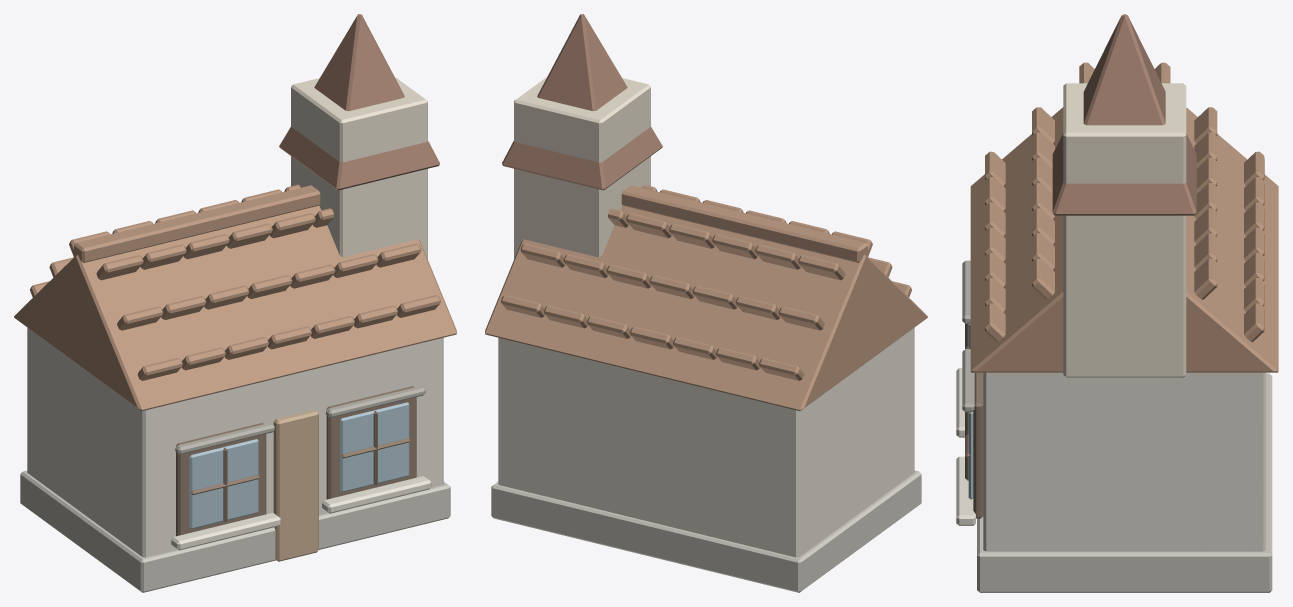
Rendered from church_b.glb.
The picture shows the model from 3 angles, left to right: view 1: azimuth 30°, elevation 25°; view 2: azimuth 150°, elevation 25°; view 3: azimuth 270°, elevation 25°; orthographic projection. The views are drawn at different scales.
Visible parts, largest first — view 1: roof, nave, bell, skirt, bp, door, ridge, wglass, wglass.001, wframe, wframe.001, wsill (+22 smaller); view 2: nave, roof, skirt, bell, bp, ridge, shingle.035, shingle.038, shingle.036, shingle.037, shingle.039, shingle.028 (+13 smaller); view 3: nave, bell, roof, skirt, bp, wframe.001, wsill.001, shingle.034, shingle.013, wlintel.001, shingle.006, shingle.027 (+27 smaller).
Part boxes in pixels (x1=…): roof: x1=14, y1=205, x2=456, y2=410; nave: x1=27, y1=327, x2=443, y2=557; bell: x1=291, y1=76, x2=427, y2=259; skirt: x1=20, y1=470, x2=450, y2=592; bp: x1=279, y1=14, x2=439, y2=190; door: x1=273, y1=409, x2=318, y2=561; ridge: x1=74, y1=185, x2=320, y2=262; wglass: x1=189, y1=439, x2=258, y2=528; wglass.001: x1=340, y1=402, x2=409, y2=492; wframe: x1=176, y1=423, x2=266, y2=536; wframe.001: x1=326, y1=386, x2=416, y2=499; wsill: x1=171, y1=513, x2=280, y2=550; nave: x1=498, y1=327, x2=914, y2=557; roof: x1=485, y1=205, x2=927, y2=410; skirt: x1=491, y1=470, x2=921, y2=592; bell: x1=514, y1=76, x2=650, y2=259; bp: x1=502, y1=14, x2=662, y2=190; ridge: x1=621, y1=185, x2=867, y2=262; shingle.035: x1=798, y1=255, x2=845, y2=280; shingle.038: x1=669, y1=223, x2=715, y2=248; shingle.036: x1=755, y1=244, x2=801, y2=269; shingle.037: x1=712, y1=234, x2=757, y2=259; shingle.039: x1=626, y1=213, x2=671, y2=238; shingle.028: x1=778, y1=306, x2=824, y2=330; nave: x1=983, y1=372, x2=1265, y2=551; bell: x1=1063, y1=83, x2=1186, y2=377; roof: x1=970, y1=107, x2=1278, y2=372; skirt: x1=977, y1=373, x2=1272, y2=592; bp: x1=1052, y1=14, x2=1196, y2=215; wframe.001: x1=973, y1=372, x2=983, y2=518; wsill.001: x1=956, y1=456, x2=975, y2=525; shingle.034: x1=1194, y1=258, x2=1217, y2=299; shingle.013: x1=1032, y1=258, x2=1054, y2=299; wlintel.001: x1=962, y1=349, x2=974, y2=412; shingle.006: x1=985, y1=303, x2=1005, y2=342; shingle.027: x1=1244, y1=303, x2=1264, y2=341.
Size of the model in its own units: 1.89 by 2.52 by 1.31.
